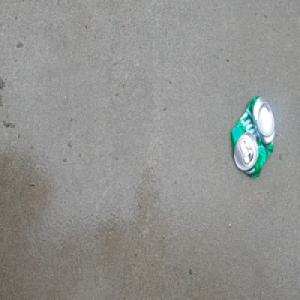SodaCan: (229, 93, 277, 180)
